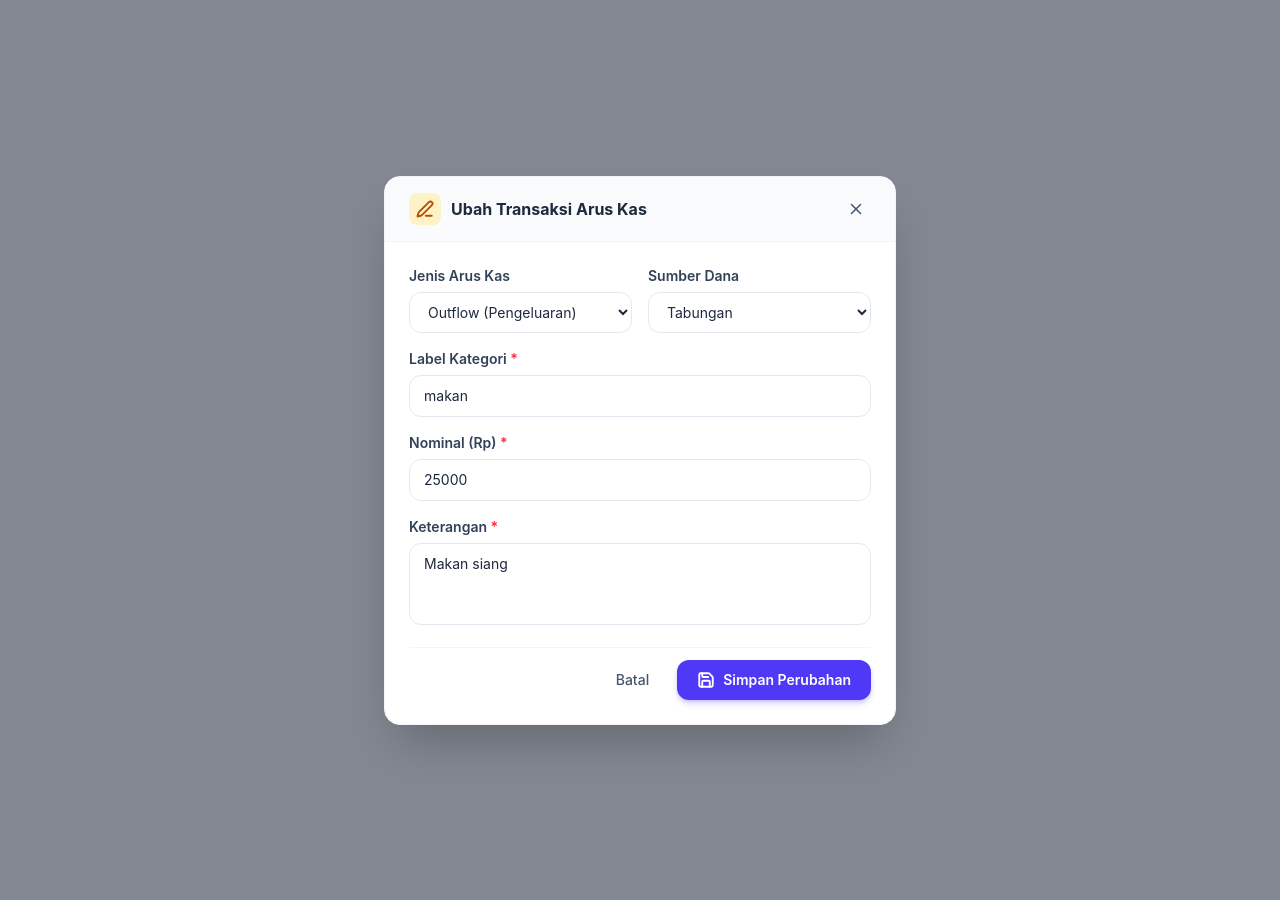
Test: ChangeModal › should submit edited values and show loading
Select "Inflow (Pemasukan)" in the dropdown labelled "Jenis Arus Kas": (520, 312) [409,292,632,332]
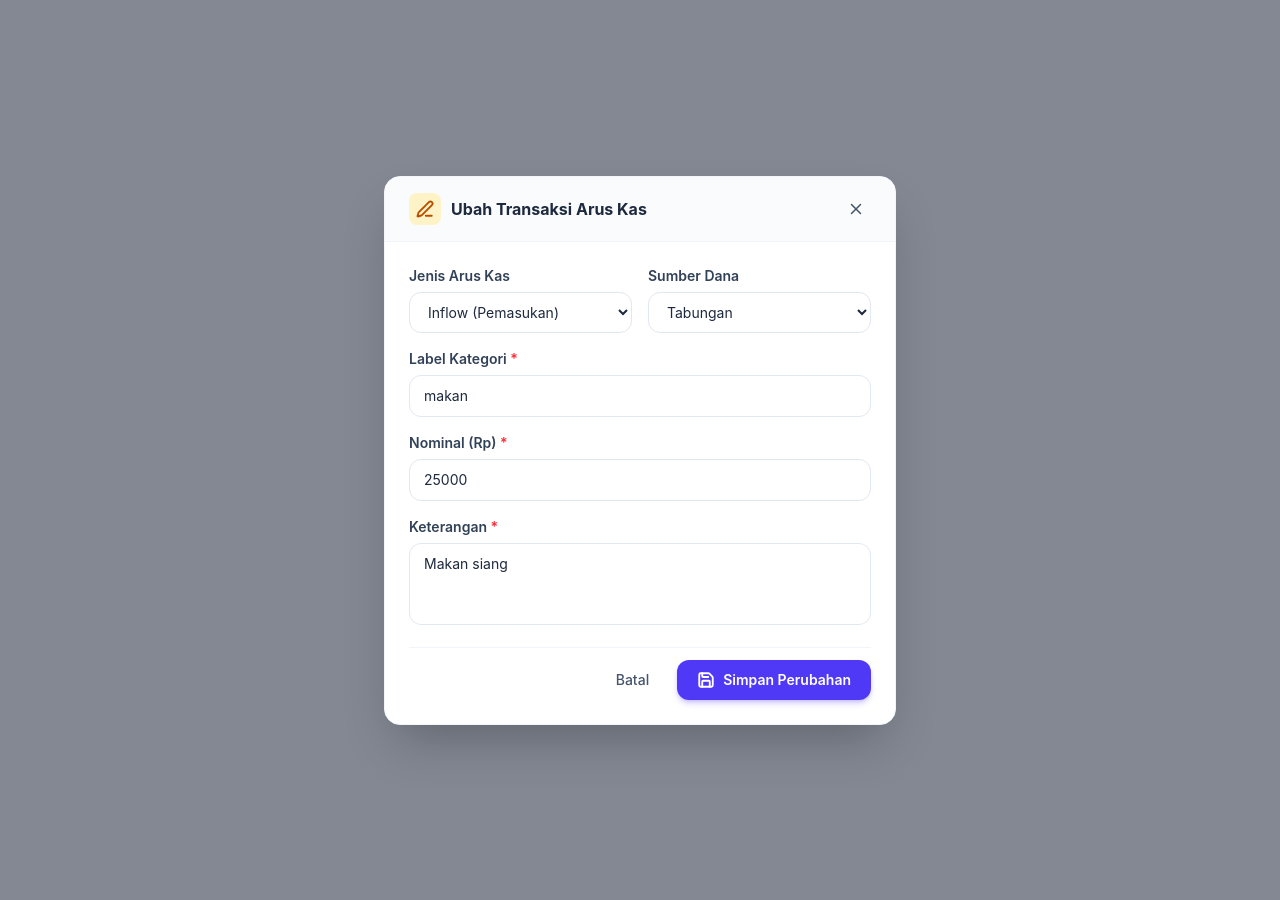
Select "Pinjaman" in the dropdown labelled "Sumber Dana": (760, 312) [648,292,871,332]
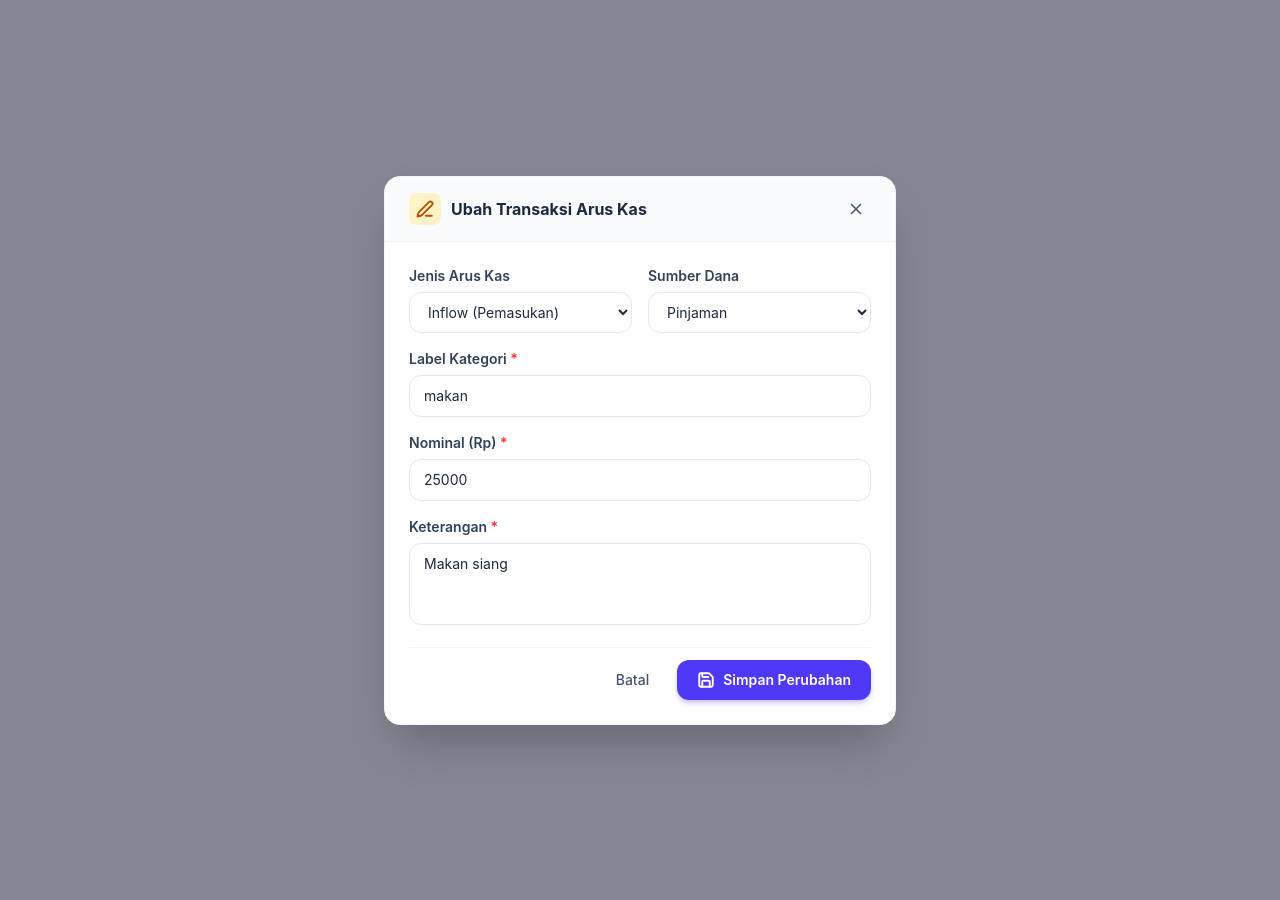
Replace the text in the number field labelled "Nominal (Rp) *" with "30000": (640, 480) [409,458,871,500]
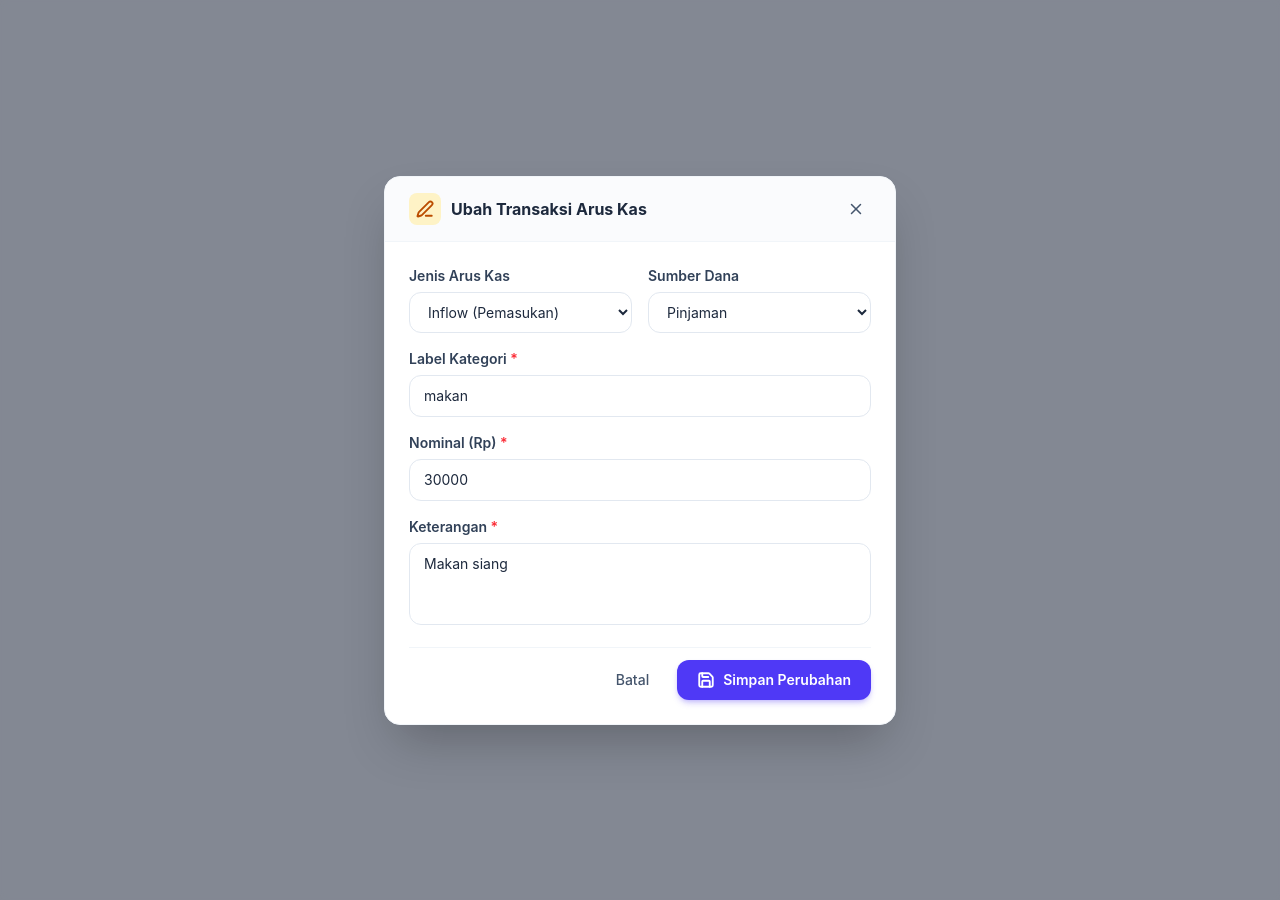
Submit the form, box [385,242,895,724]
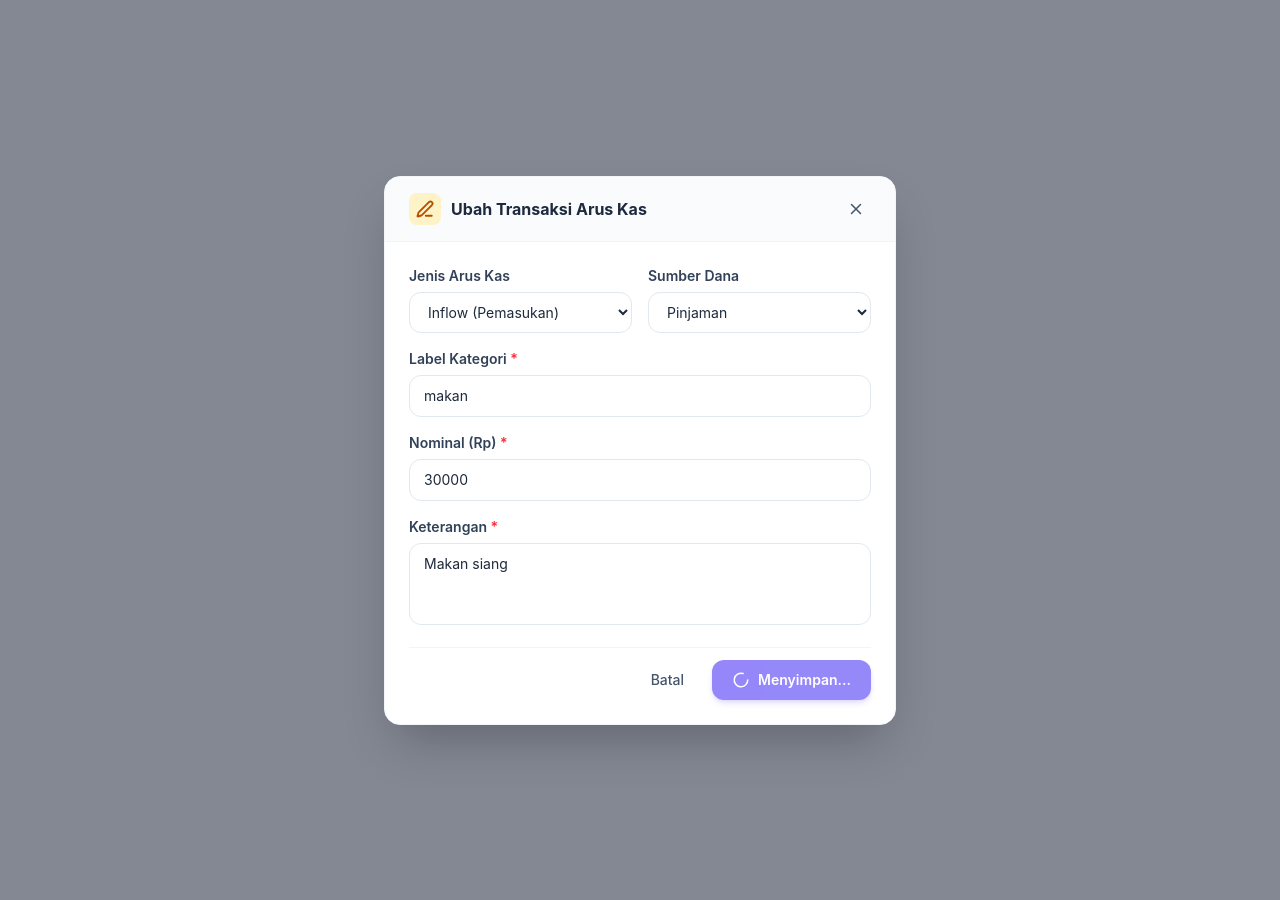
Now the text "Menyimpan..." is shown, box [758,670,851,690]
